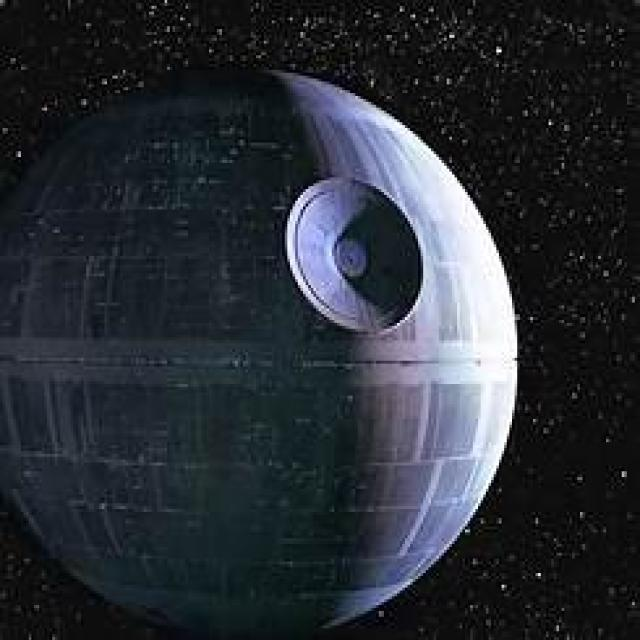deathStar: (8, 68, 520, 634)
